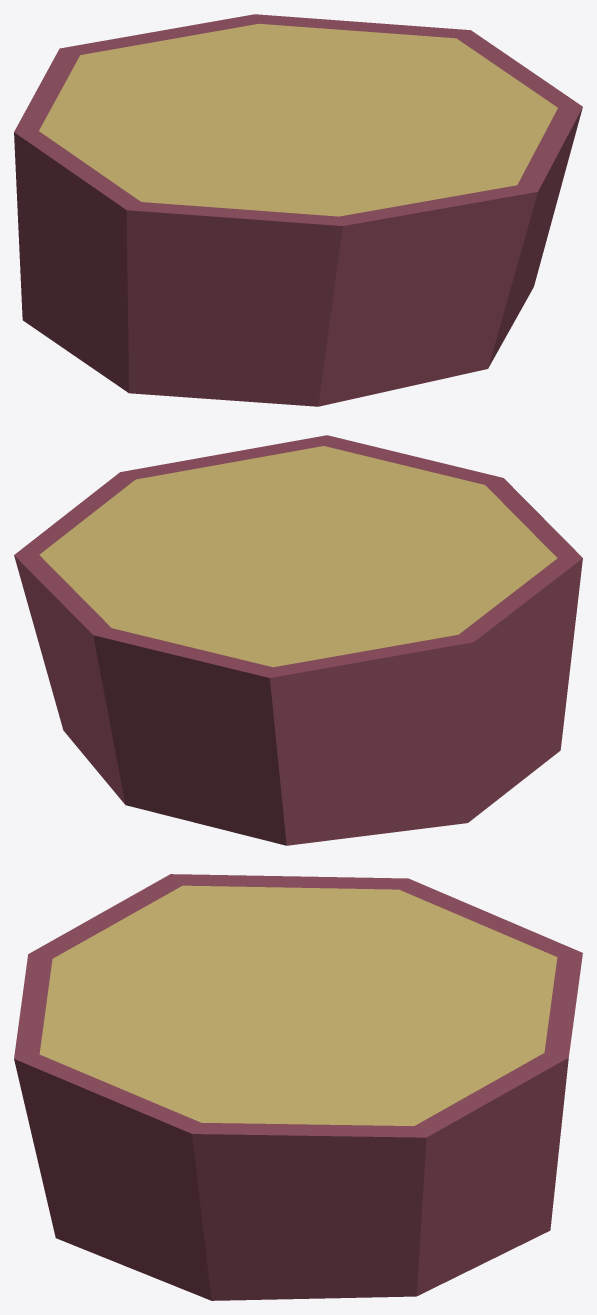
The model's file is sweetPotatoSlice02.fbx.
3 views of the same model, one above another, from view 1: azimuth 30°, elevation 25°; view 2: azimuth 150°, elevation 25°; view 3: azimuth 270°, elevation 25° (orthographic). The views are drawn at different scales.
Visible parts, largest first — view 1: sweetPotatoSlice02; view 2: sweetPotatoSlice02; view 3: sweetPotatoSlice02.
Part boxes in pixels (x1,y1,x2,y2): sweetPotatoSlice02: (14,14,582,406); sweetPotatoSlice02: (14,435,582,845); sweetPotatoSlice02: (14,874,582,1300).
Bounding box in the file's own units: 6.55 × 2.61 × 6.53.
Materials: 1 (1 with a texture image).
